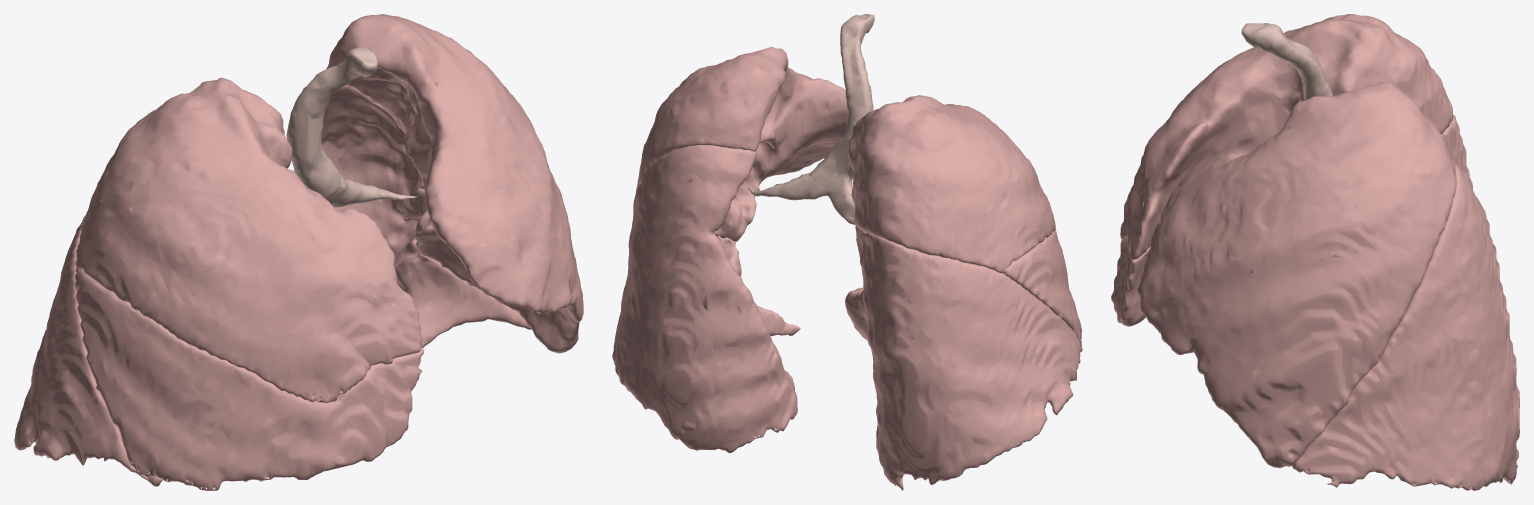
Rendered from tsd_s0196_older_adult_female.respiratory.LOD1.glb.
3 views of the same model, side by side, from view 1: azimuth 30°, elevation 25°; view 2: azimuth 150°, elevation 25°; view 3: azimuth 270°, elevation 25° (orthographic). The views are drawn at different scales.
Parts seen in each view (by area): view 1: TSD_S0196.OLDER_ADULT.FEMALE.RESPIRATORY.SUPERIOR_LOBE_OF_RI, TSD_S0196.OLDER_ADULT.FEMALE.RESPIRATORY.SUPERIOR_LOBE_OF_LE, TSD_S0196.OLDER_ADULT.FEMALE.RESPIRATORY.MIDDLE_LOBE_OF_RIGH, TSD_S0196.OLDER_ADULT.FEMALE.RESPIRATORY.INFERIOR_LOBE_OF_LE, TSD_S0196.OLDER_ADULT.FEMALE.RESPIRATORY.INFERIOR_LOBE_OF_RI, TSD_S0196.OLDER_ADULT.FEMALE.RESPIRATORY.TRACHEA; view 2: TSD_S0196.OLDER_ADULT.FEMALE.RESPIRATORY.INFERIOR_LOBE_OF_RI, TSD_S0196.OLDER_ADULT.FEMALE.RESPIRATORY.INFERIOR_LOBE_OF_LE, TSD_S0196.OLDER_ADULT.FEMALE.RESPIRATORY.SUPERIOR_LOBE_OF_RI, TSD_S0196.OLDER_ADULT.FEMALE.RESPIRATORY.SUPERIOR_LOBE_OF_LE, TSD_S0196.OLDER_ADULT.FEMALE.RESPIRATORY.TRACHEA, TSD_S0196.OLDER_ADULT.FEMALE.RESPIRATORY.MIDDLE_LOBE_OF_RIGH; view 3: TSD_S0196.OLDER_ADULT.FEMALE.RESPIRATORY.SUPERIOR_LOBE_OF_LE, TSD_S0196.OLDER_ADULT.FEMALE.RESPIRATORY.INFERIOR_LOBE_OF_LE, TSD_S0196.OLDER_ADULT.FEMALE.RESPIRATORY.SUPERIOR_LOBE_OF_RI, TSD_S0196.OLDER_ADULT.FEMALE.RESPIRATORY.TRACHEA, TSD_S0196.OLDER_ADULT.FEMALE.RESPIRATORY.MIDDLE_LOBE_OF_RIGH, TSD_S0196.OLDER_ADULT.FEMALE.RESPIRATORY.INFERIOR_LOBE_OF_RI.
Part boxes in pixels (x1,y1,x2,y2): TSD_S0196.OLDER_ADULT.FEMALE.RESPIRATORY.SUPERIOR_LOBE_OF_RI: (75,77,422,402); TSD_S0196.OLDER_ADULT.FEMALE.RESPIRATORY.SUPERIOR_LOBE_OF_LE: (326,14,583,353); TSD_S0196.OLDER_ADULT.FEMALE.RESPIRATORY.MIDDLE_LOBE_OF_RIGH: (75,269,424,490); TSD_S0196.OLDER_ADULT.FEMALE.RESPIRATORY.INFERIOR_LOBE_OF_LE: (321,85,531,348); TSD_S0196.OLDER_ADULT.FEMALE.RESPIRATORY.INFERIOR_LOBE_OF_RI: (14,209,162,486); TSD_S0196.OLDER_ADULT.FEMALE.RESPIRATORY.TRACHEA: (286,46,418,207); TSD_S0196.OLDER_ADULT.FEMALE.RESPIRATORY.INFERIOR_LOBE_OF_RI: (845,225,1082,490); TSD_S0196.OLDER_ADULT.FEMALE.RESPIRATORY.INFERIOR_LOBE_OF_LE: (612,144,800,453); TSD_S0196.OLDER_ADULT.FEMALE.RESPIRATORY.SUPERIOR_LOBE_OF_RI: (847,95,1055,273); TSD_S0196.OLDER_ADULT.FEMALE.RESPIRATORY.SUPERIOR_LOBE_OF_LE: (635,47,848,241); TSD_S0196.OLDER_ADULT.FEMALE.RESPIRATORY.TRACHEA: (747,14,874,224); TSD_S0196.OLDER_ADULT.FEMALE.RESPIRATORY.MIDDLE_LOBE_OF_RIGH: (1004,229,1081,347); TSD_S0196.OLDER_ADULT.FEMALE.RESPIRATORY.SUPERIOR_LOBE_OF_LE: (1137,82,1456,468); TSD_S0196.OLDER_ADULT.FEMALE.RESPIRATORY.INFERIOR_LOBE_OF_LE: (1292,160,1519,490); TSD_S0196.OLDER_ADULT.FEMALE.RESPIRATORY.SUPERIOR_LOBE_OF_RI: (1120,14,1452,260); TSD_S0196.OLDER_ADULT.FEMALE.RESPIRATORY.TRACHEA: (1241,23,1332,100); TSD_S0196.OLDER_ADULT.FEMALE.RESPIRATORY.MIDDLE_LOBE_OF_RIGH: (1111,238,1150,326); TSD_S0196.OLDER_ADULT.FEMALE.RESPIRATORY.INFERIOR_LOBE_OF_RI: (1441,114,1472,188).
Size of the model in its own units: 0.255 by 0.2143 by 0.1829.
